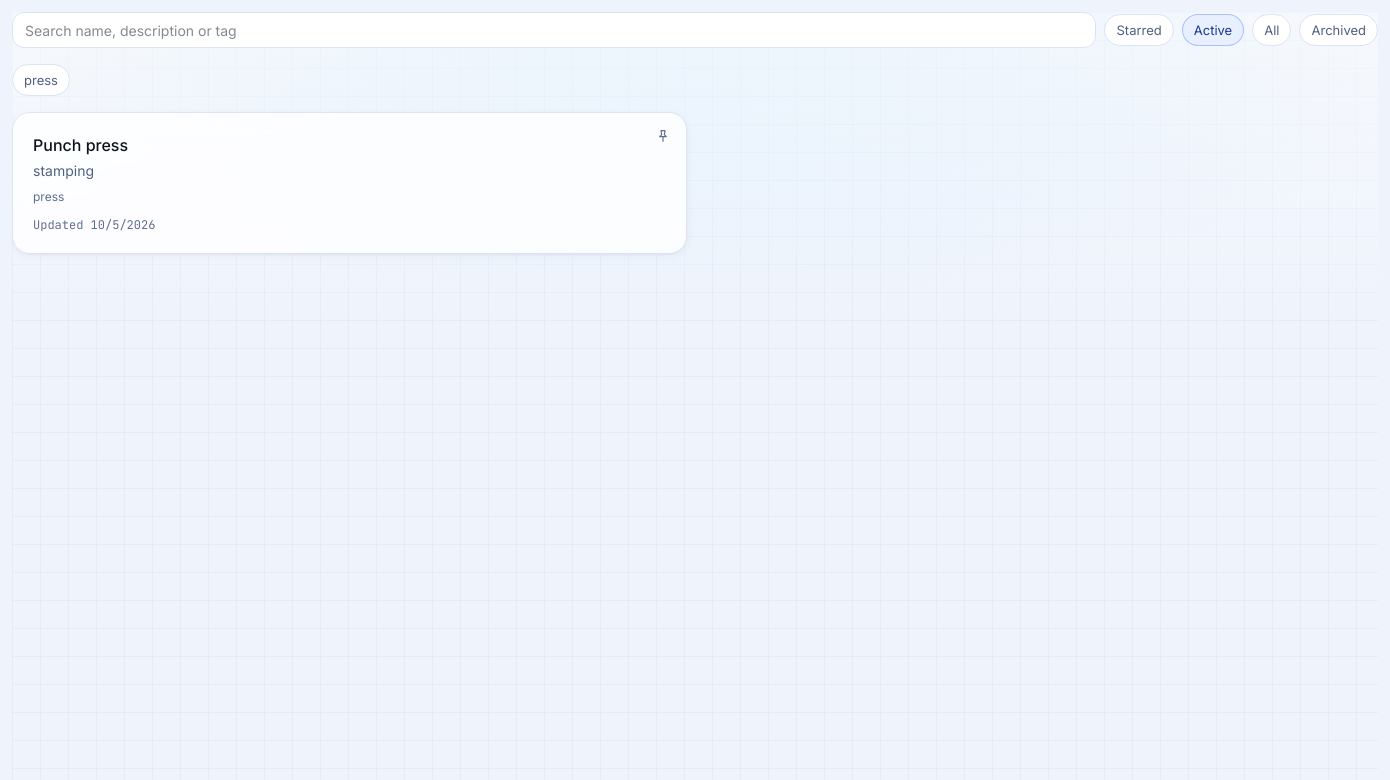
Scenario: ProjectBrowser › toggles a star through the server and shows the answer
Click the button named "Star Punch press" at (663, 136), box [651, 124, 675, 148]
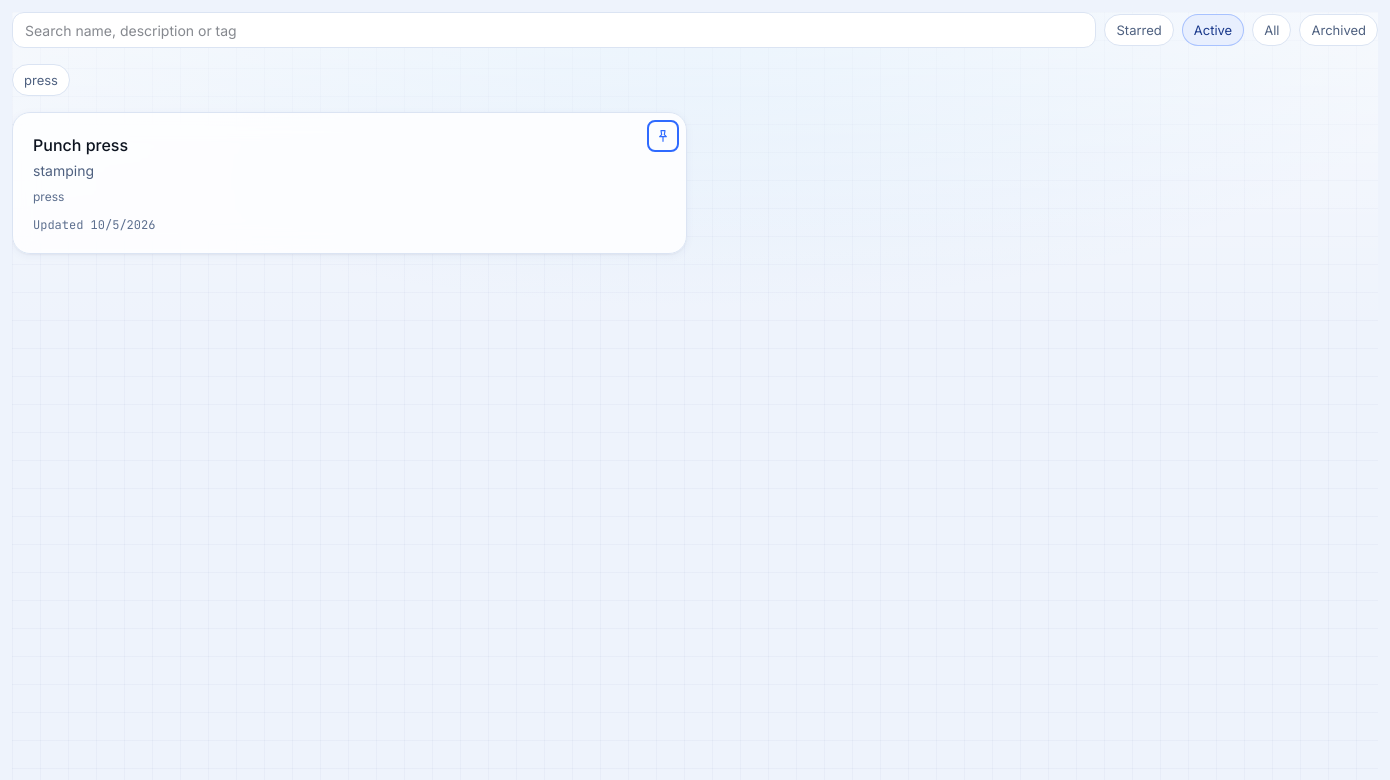
Expected: the button named "Unstar Punch press" is shown, [651, 124, 675, 148]
